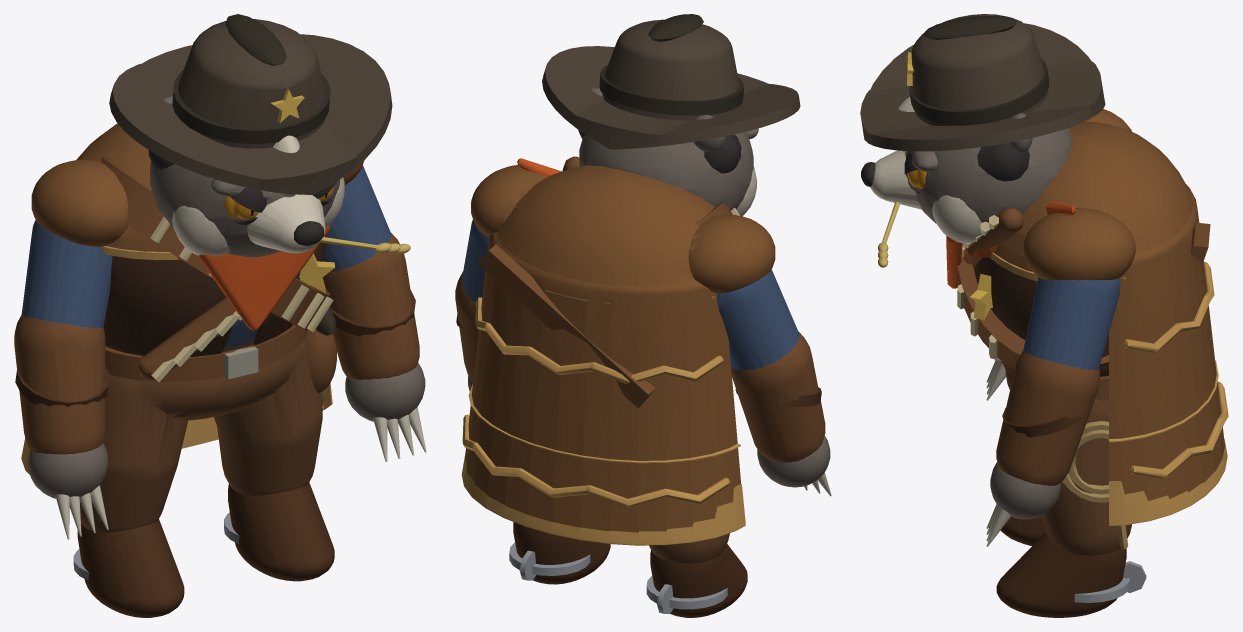
Rendered from lawlander.glb.
The picture shows the model from 3 angles, left to right: view 1: azimuth 30°, elevation 25°; view 2: azimuth 150°, elevation 25°; view 3: azimuth 270°, elevation 25°; orthographic projection. The views are drawn at different scales.
Parts seen in each view (by area): view 1: creature; view 2: creature; view 3: creature.
Part boxes in pixels (x1,y1,x2,y2): creature: (14, 14, 426, 617); creature: (455, 14, 831, 617); creature: (860, 14, 1228, 617).
Bounding box in the file's own units: 0.6843 × 1 × 0.5974.
